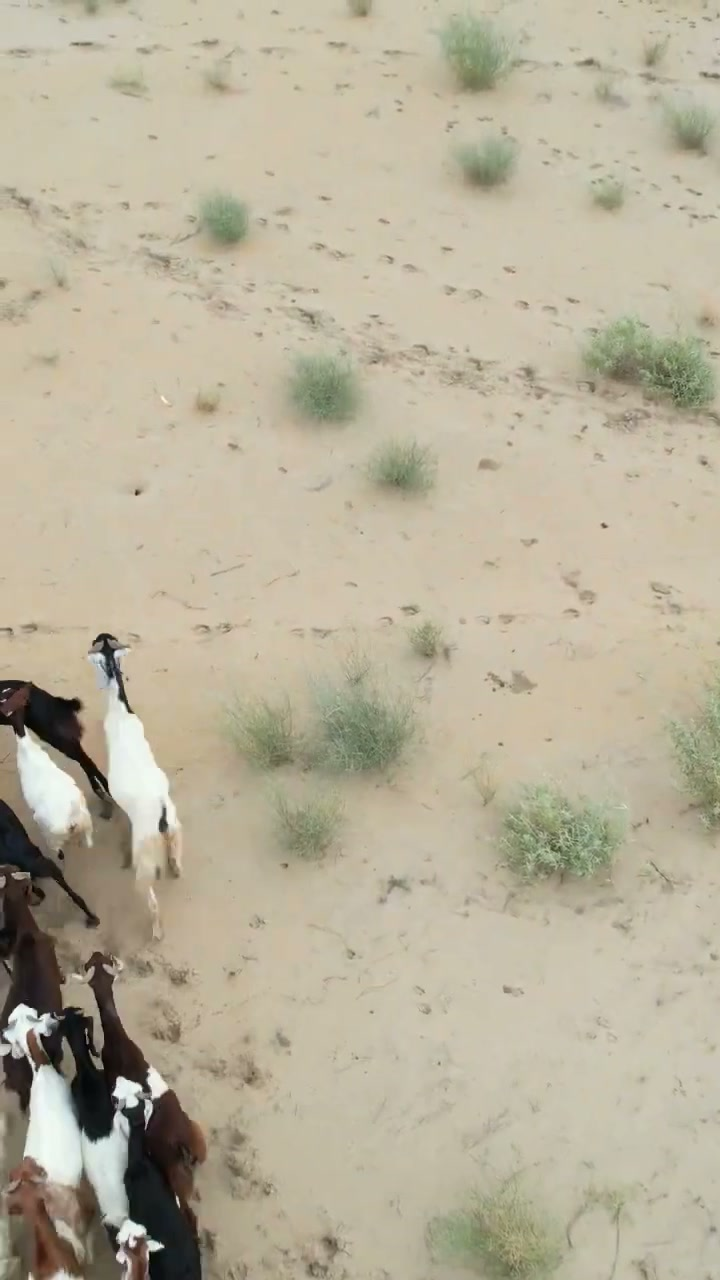animal_foot_print: (127, 880, 336, 1279)
